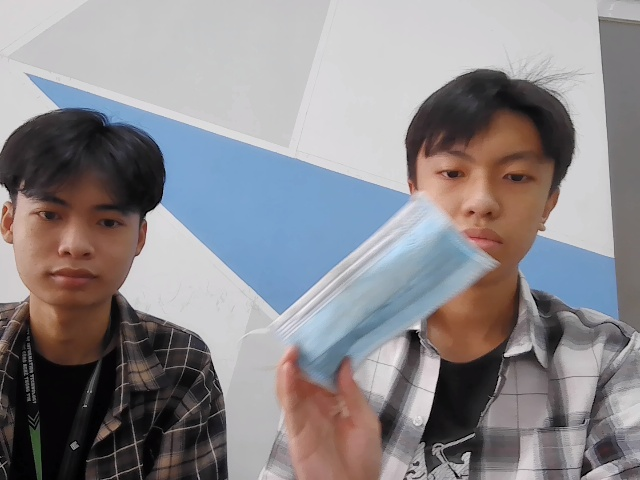human: (406, 59, 570, 287), (4, 104, 162, 310)
mask: (257, 190, 491, 376)
